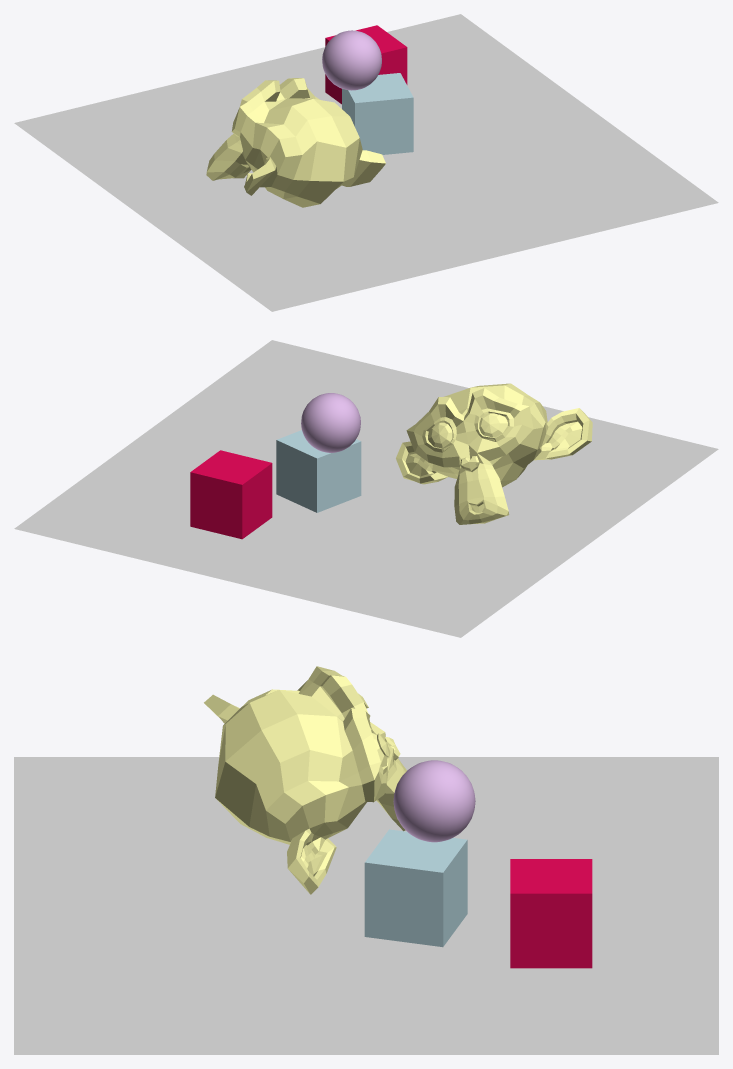
The picture shows the model from 3 angles, top to bottom: view 1: azimuth 30°, elevation 25°; view 2: azimuth 150°, elevation 25°; view 3: azimuth 270°, elevation 25°; orthographic projection. The views are drawn at different scales.
Parts seen in each view (by area): view 1: Plane, Suzanne, Cube, Sphere, Cube.001; view 2: Plane, Suzanne, Cube.001, Cube, Sphere; view 3: Plane, Suzanne, Cube, Cube.001, Sphere.
Part boxes in pixels (left/top/right/bottom): Plane: left=14, top=14, right=718, bottom=311; Suzanne: left=206, top=78, right=385, bottom=207; Cube: left=342, top=73, right=413, bottom=154; Sphere: left=322, top=30, right=381, bottom=90; Cube.001: left=325, top=25, right=407, bottom=104; Plane: left=14, top=340, right=718, bottom=637; Suzanne: left=396, top=383, right=592, bottom=524; Cube.001: left=190, top=450, right=272, bottom=539; Cube: left=276, top=430, right=361, bottom=512; Sphere: left=301, top=393, right=360, bottom=452; Plane: left=14, top=757, right=718, bottom=1054; Suzanne: left=204, top=666, right=406, bottom=894; Cube: left=364, top=829, right=467, bottom=947; Cube.001: left=510, top=859, right=592, bottom=968; Sphere: left=393, top=760, right=475, bottom=842.
Bounding box in the file's own units: 17.17 × 4.35 × 17.17.
